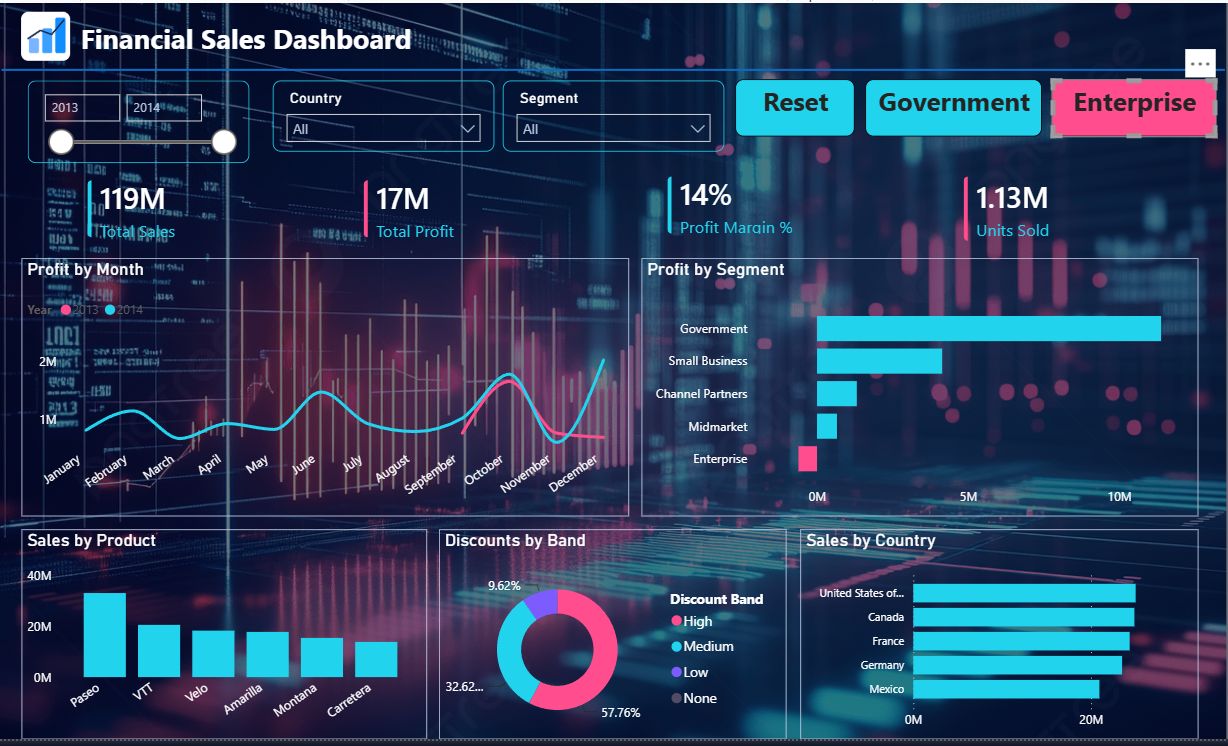

The dashboard page shown, as its layout file describes it:
{"tool":"powerbi","page":{"name":"Page 1","canvas":[1280,720],"ordinal":0},"visuals":[{"type":"cardVisual","fields":{"Data":["financials.total sales"]},"box":[108.4,156.4,212.7,90.6],"z":0},{"type":"cardVisual","fields":{"Data":["financials.Total Profit"]},"box":[378.7,156.4,209.9,90.6],"z":1000},{"type":"cardVisual","fields":{"Data":["financials.Profit Margin %"]},"box":[676.5,152.3,209.9,90.6],"z":2000},{"type":"lineChart","title":" Profit by Month ","fields":{"Category":["financials.Month Name"],"Y":["financials.Total Profit"],"Series":["financials.Year"]},"box":[61.7,249.7,594.2,252.5],"z":3000},{"type":"clusteredBarChart","title":"Sales by Country","fields":{"Category":["financials.Country"],"Y":["financials.total sales"]},"box":[823.3,514.6,389.7,205.8],"z":4000},{"type":"clusteredColumnChart","title":" Sales by Product","fields":{"Y":["financials.total sales"],"Category":["financials.Product"]},"box":[61.7,514.6,396.6,205.8],"z":5000},{"type":"donutChart","title":" Discounts by Band","fields":{"Category":["financials.Discount Band"],"Y":["financials.Total Discounts"]},"box":[469.3,514.6,340.3,205.8],"z":6000},{"type":"slicer","fields":{"Values":["financials.Year"]},"box":[67.3,75.8,216.4,80.7],"z":7000},{"type":"slicer","fields":{"Values":["financials.Country"]},"box":[307.4,75.5,216.8,70],"z":8000},{"type":"slicer","fields":{"Values":["financials.Segment"]},"box":[532.4,75.5,216.8,70],"z":9000},{"type":"clusteredBarChart","title":" Profit by Segment","fields":{"Category":["financials.Segment"],"Y":["financials.Total Profit"]},"box":[668.3,249.7,544.8,252.5],"z":10000},{"type":"textbox","title":"              Financial Sales Dashboard","box":[99,8.6,600,48],"z":11000},{"type":"cardVisual","fields":{"Data":["financials.Total Units"]},"box":[966,152.3,204.5,97.4],"z":12000},{"type":"actionButton","title":"Reset","box":[759.7,75.1,116.9,55.7],"z":13000},{"type":"actionButton","title":"Government","box":[886.3,75.1,172.5,55.7],"z":14000},{"type":"actionButton","title":"Enterprise","box":[1068.5,75.1,161.4,55.7],"z":15000},{"type":"image","box":[59.9,8.6,48.9,48],"z":15001},{"type":"shape","box":[41.6,56.3,1197.2,18.3],"z":15002}]}

Visuals, with their boxes on the page's 1280x720 design canvas (x1, y1, x2, y2). These are canvas units, not pixel positions in the 1228x746 screenshot, which may show the page scaled, cropped or inside an application window:
cardVisual - financials.total sales: 108:156:321:247
cardVisual - financials.Total Profit: 379:156:589:247
cardVisual - financials.Profit Margin %: 676:152:886:243
" Profit by Month " lineChart: 62:250:656:502
"Sales by Country" clusteredBarChart: 823:515:1213:720
" Sales by Product" clusteredColumnChart: 62:515:458:720
" Discounts by Band" donutChart: 469:515:810:720
slicer - financials.Year: 67:76:284:156
slicer - financials.Country: 307:76:524:146
slicer - financials.Segment: 532:76:749:146
" Profit by Segment" clusteredBarChart: 668:250:1213:502
"              Financial Sales Dashboard" textbox: 99:9:699:57
cardVisual - financials.Total Units: 966:152:1170:250
"Reset" actionButton: 760:75:877:131
"Government" actionButton: 886:75:1059:131
"Enterprise" actionButton: 1068:75:1230:131
image: 60:9:109:57
shape: 42:56:1239:75
